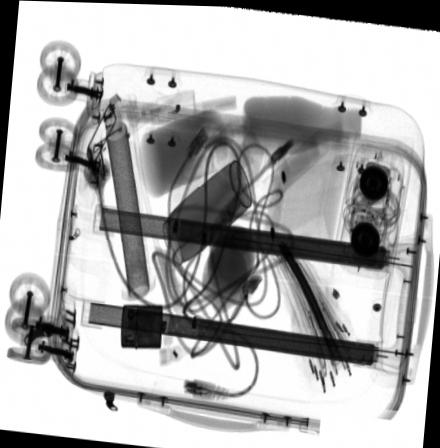Lighter: (120, 304, 162, 348)
